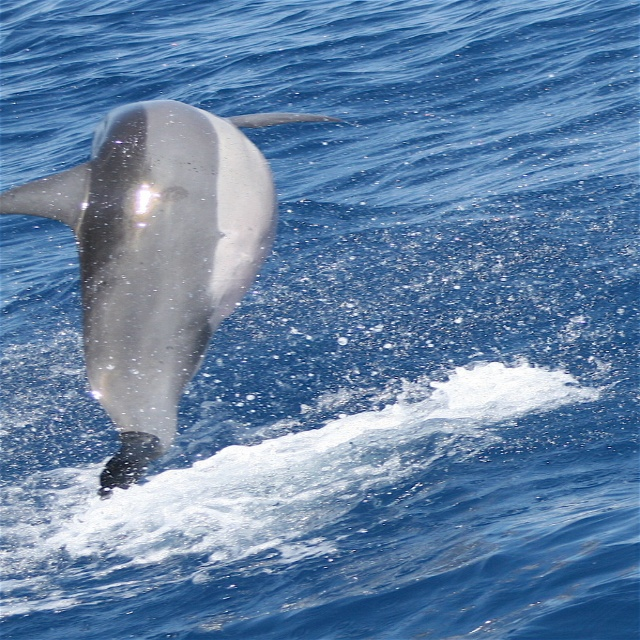Whale: (0, 98, 358, 499)
